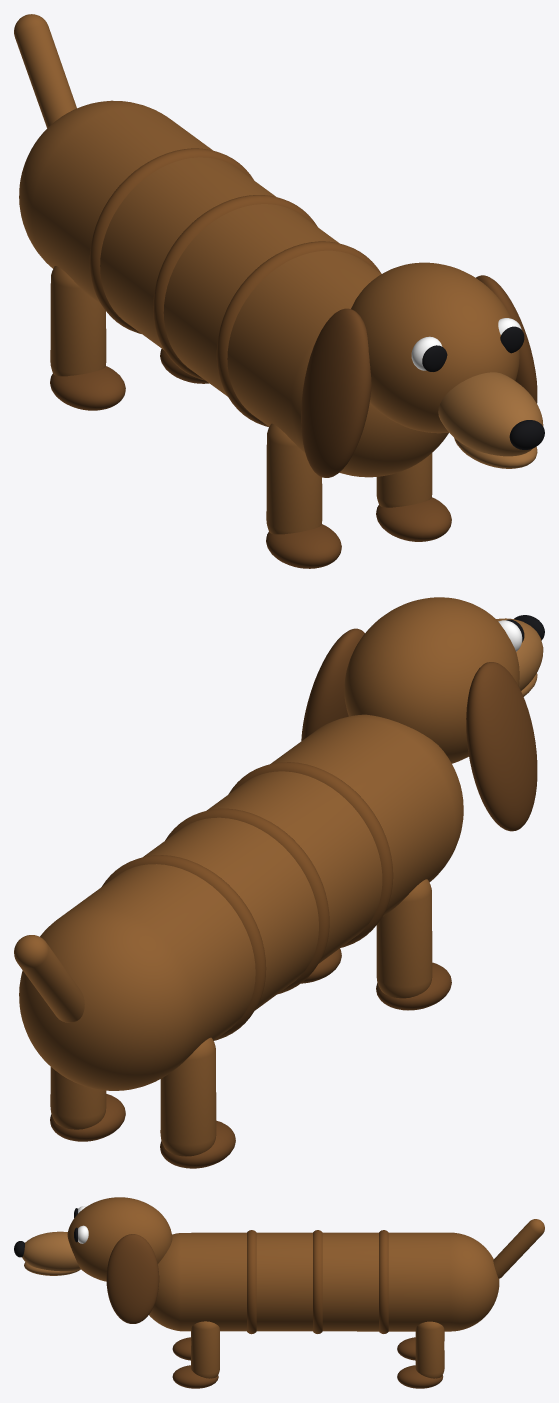
The model's file is long_dachshund.glb.
3 renders of one model, top to bottom at view 1: azimuth 30°, elevation 25°; view 2: azimuth 150°, elevation 25°; view 3: azimuth 270°, elevation 25°, orthographic. The views are drawn at different scales.
Parts seen in each view (by area): view 1: LongBody, Head.001, Flop_R, Snout, BackLeg_R, FrontLeg_R, TailMesh, Fold_0, Fold_1, Fold_2, BackPaw_R, FrontPaw_L (+5 smaller); view 2: LongBody, Head.001, Flop_R, FrontLeg_R, BackLeg_R, TailMesh, Fold_0, Fold_1, Flop_L, Fold_2, BackLeg_L, BackPaw_L (+3 smaller); view 3: LongBody, Head.001, Flop_L, Snout, BackLeg_L, FrontLeg_L, TailMesh, Fold_0, Fold_1, Fold_2, BackPaw_L, FrontPaw_L (+3 smaller).
Boxes of the visible parts, x1,y1,x2,y2 form: LongBody: (19,100,448,477); Head.001: (351,262,519,433); Flop_R: (301,308,371,477); Snout: (438,372,543,456); BackLeg_R: (50,266,106,376); FrontLeg_R: (266,423,322,534); TailMesh: (14,14,76,128); Fold_0: (216,241,381,426); Fold_1: (153,195,317,380); Fold_2: (89,148,253,333); BackPaw_R: (50,366,125,410); FrontPaw_L: (376,497,451,541); LongBody: (19,714,463,1090); Head.001: (344,597,519,763); Flop_R: (466,662,537,831); FrontLeg_R: (376,879,432,998); BackLeg_R: (160,1037,216,1156); TailMesh: (14,935,84,1022); Fold_0: (228,762,393,947); Fold_1: (165,808,329,994); Flop_L: (301,628,364,740); Fold_2: (102,855,266,1040); BackLeg_L: (50,1067,106,1129); BackPaw_L: (50,1094,125,1141); LongBody: (149,1232,499,1331); Head.001: (67,1197,172,1281); Flop_L: (106,1234,159,1323); Snout: (22,1231,80,1271); BackLeg_L: (415,1321,444,1378); FrontLeg_L: (191,1321,219,1378); TailMesh: (493,1219,544,1278); Fold_0: (247,1230,256,1334); Fold_1: (313,1230,322,1333); Fold_2: (379,1230,388,1333); BackPaw_L: (397,1365,443,1388); FrontPaw_L: (172,1365,218,1388).
Bounding box in the file's own units: 0.1956 × 0.285 × 0.804.
